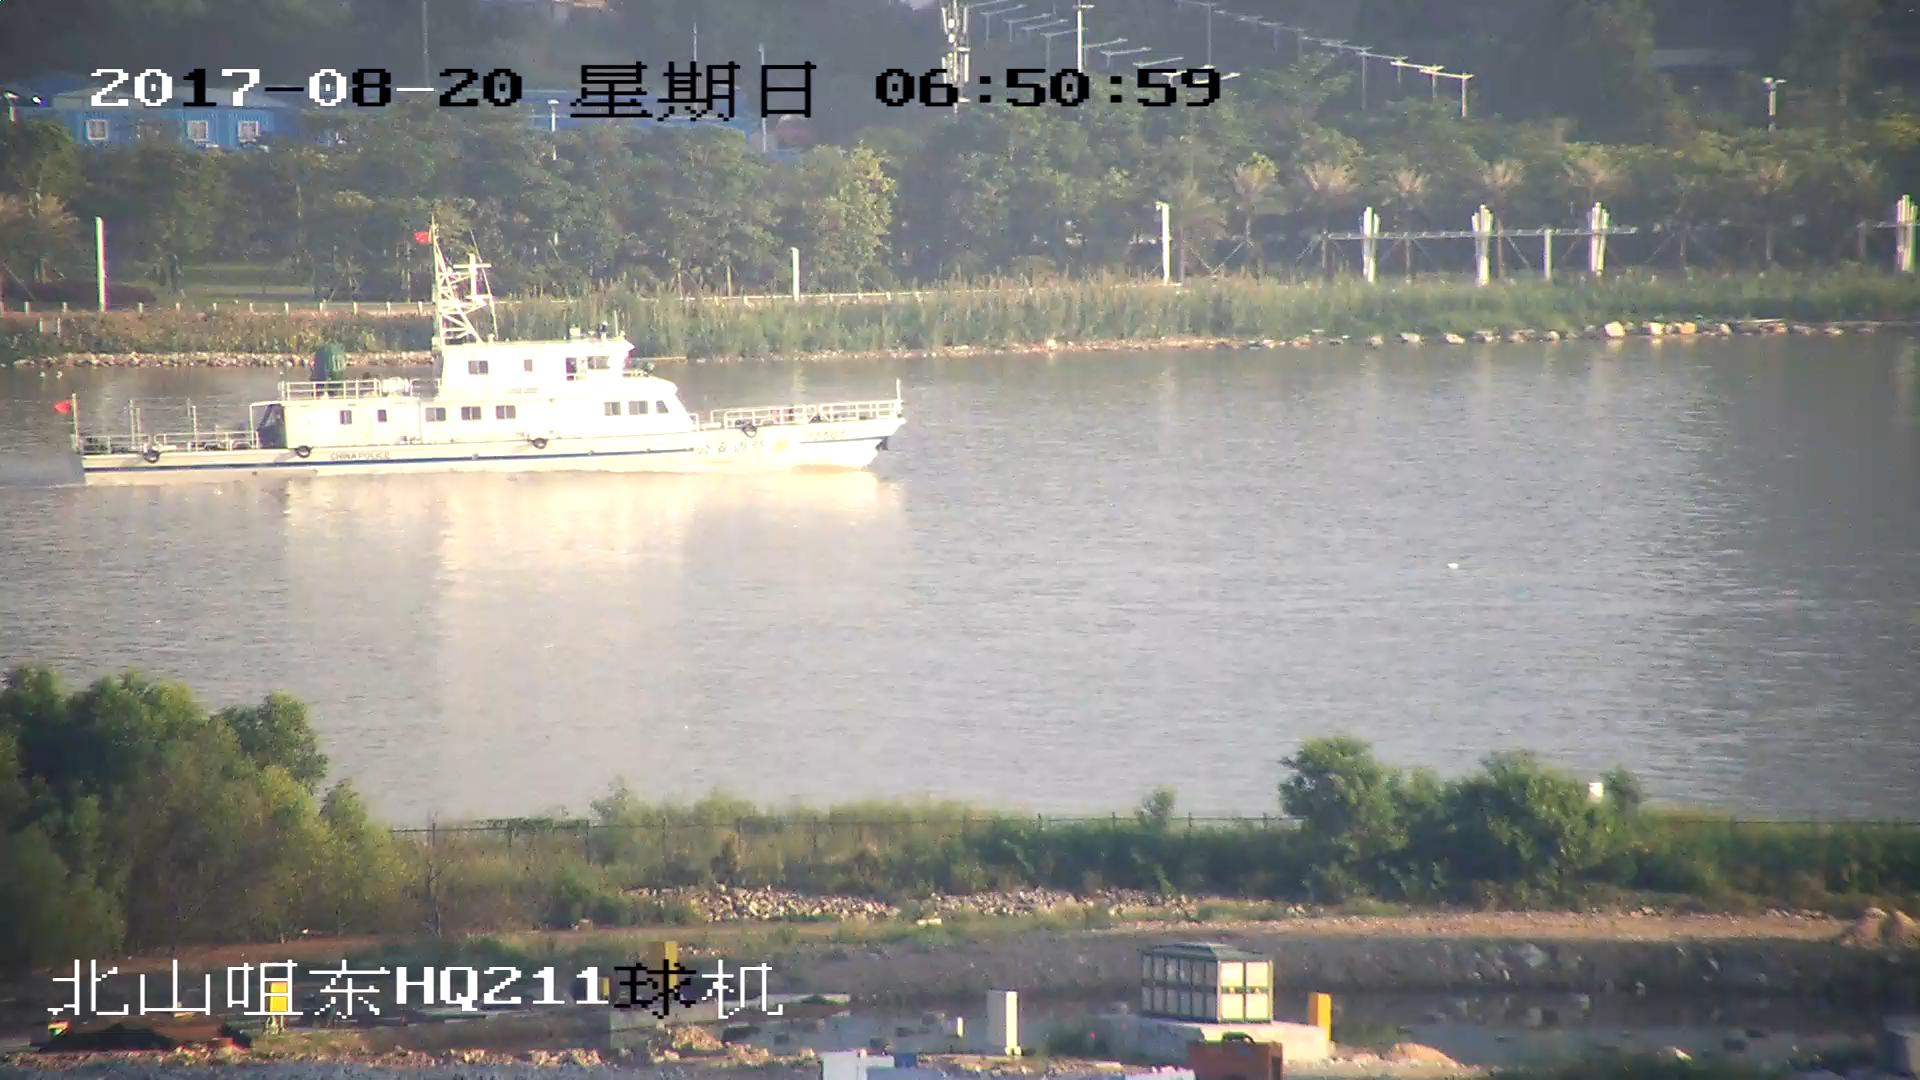passenger ship: (58, 232, 908, 490)
